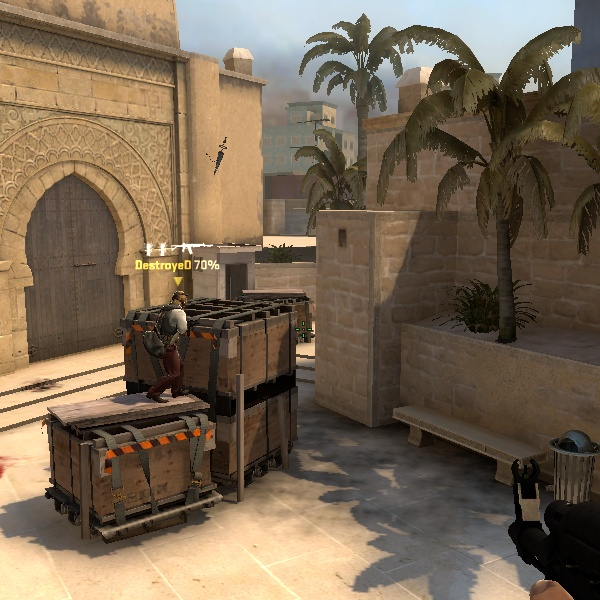t_body: (134, 289, 207, 403)
t_head: (168, 288, 193, 315)
